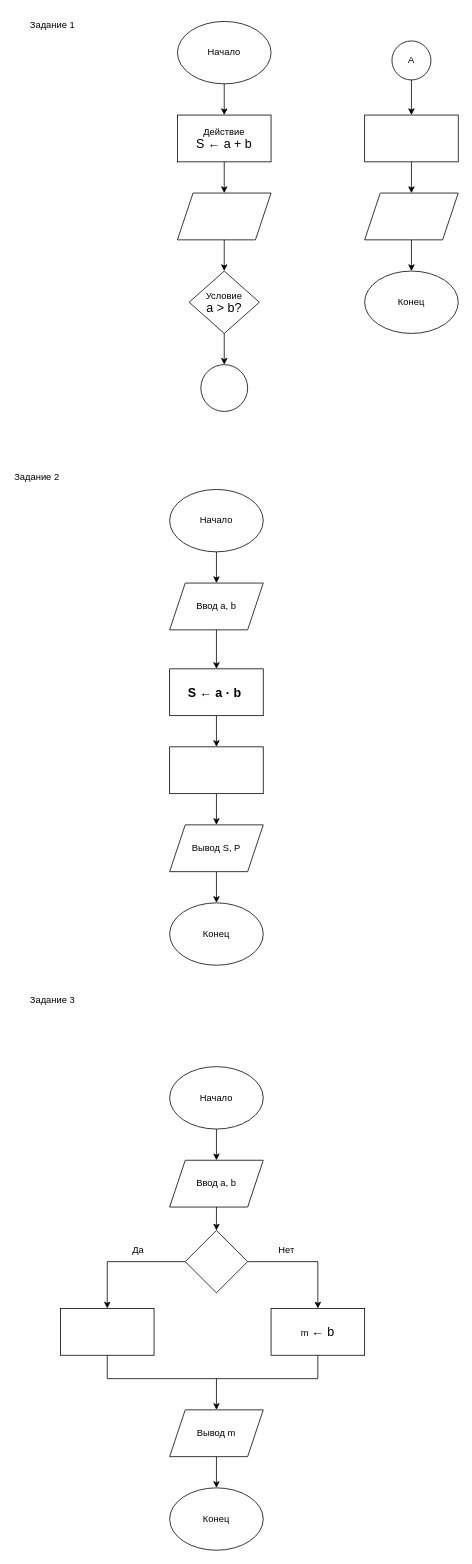
This 472x1564 diagram has some shape labels left out. The box of each missing label's shape, as (x1, y1, x2, y2) in pixels:
m ← a: (60, 1308, 154, 1355)
а >= b: (184, 1230, 248, 1293)
Ввод или вывод Ввод а, b Вывод S: (177, 192, 271, 240)
Р ← 2 ( a + b ): (169, 746, 263, 794)
Соедини тель А: (200, 364, 248, 411)
